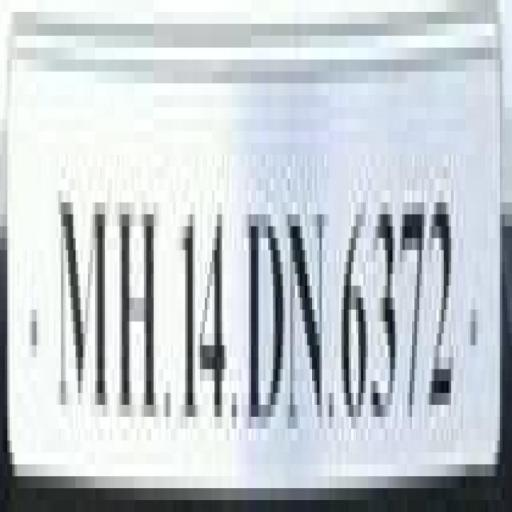number plate: (2, 35, 485, 512)
